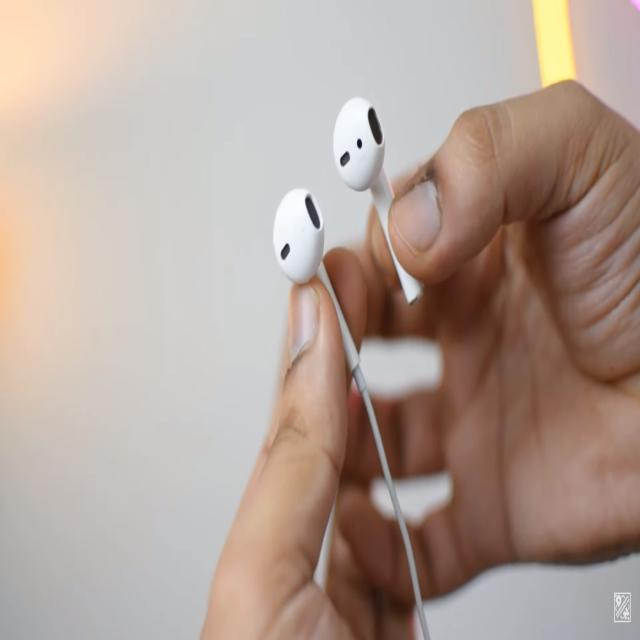Earphone: (271, 185, 430, 640)
airpods: (331, 94, 424, 307)
